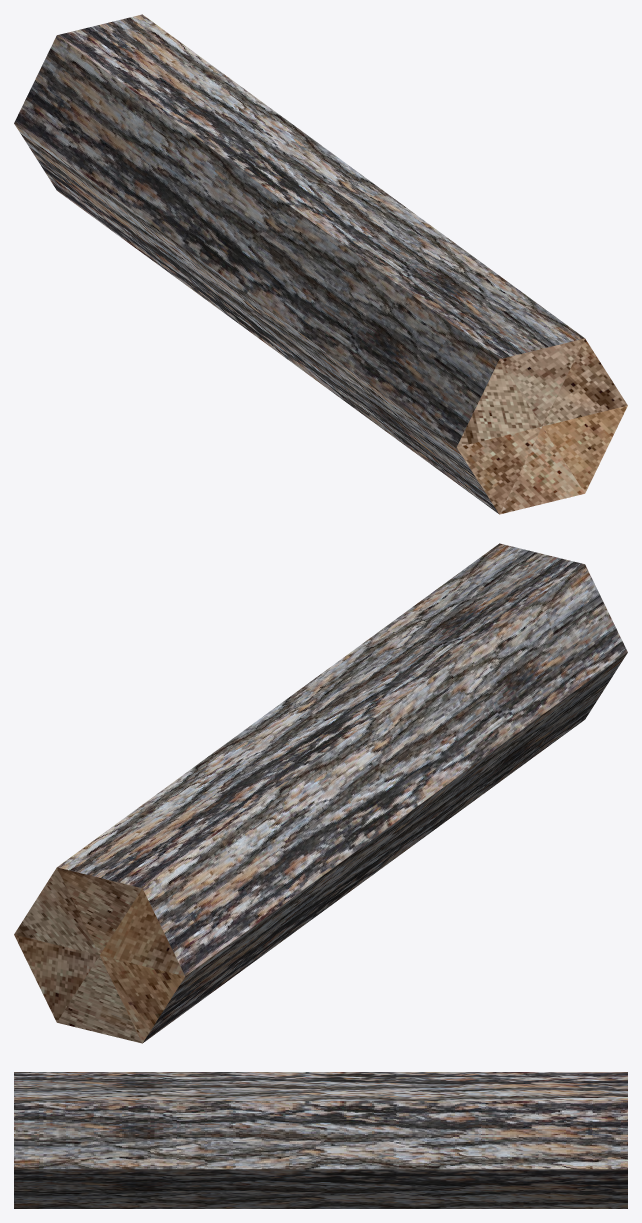
The model's file is log.obj.
3 views of the same model, one above another, from view 1: azimuth 30°, elevation 25°; view 2: azimuth 150°, elevation 25°; view 3: azimuth 270°, elevation 25° (orthographic). The views are drawn at different scales.
Parts seen in each view (by area): view 1: log; view 2: log; view 3: log.
Boxes of the visible parts, box(x1,y1,x2,y2) form: log: box(14, 14, 627, 514); log: box(14, 543, 627, 1043); log: box(14, 1072, 627, 1208).
Size of the model in its own units: 0.433 by 0.375 by 1.94.
1 material, 1 textured.
